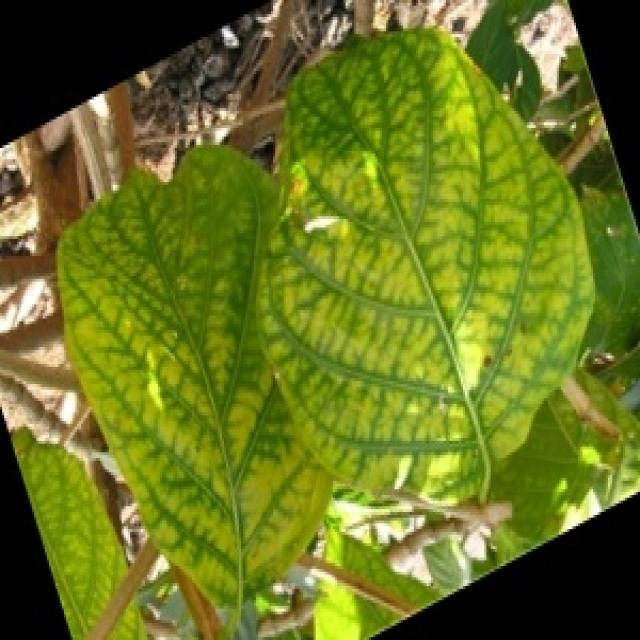Chlorosis: (62, 53, 576, 565)
